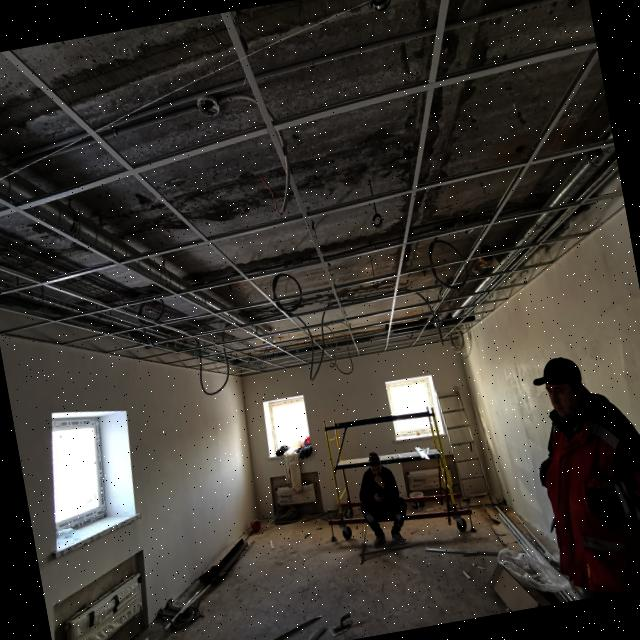NoHelmet: (531, 353, 591, 424), (367, 452, 386, 481)
